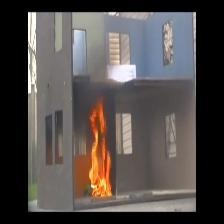fire: (75, 95, 119, 203)
